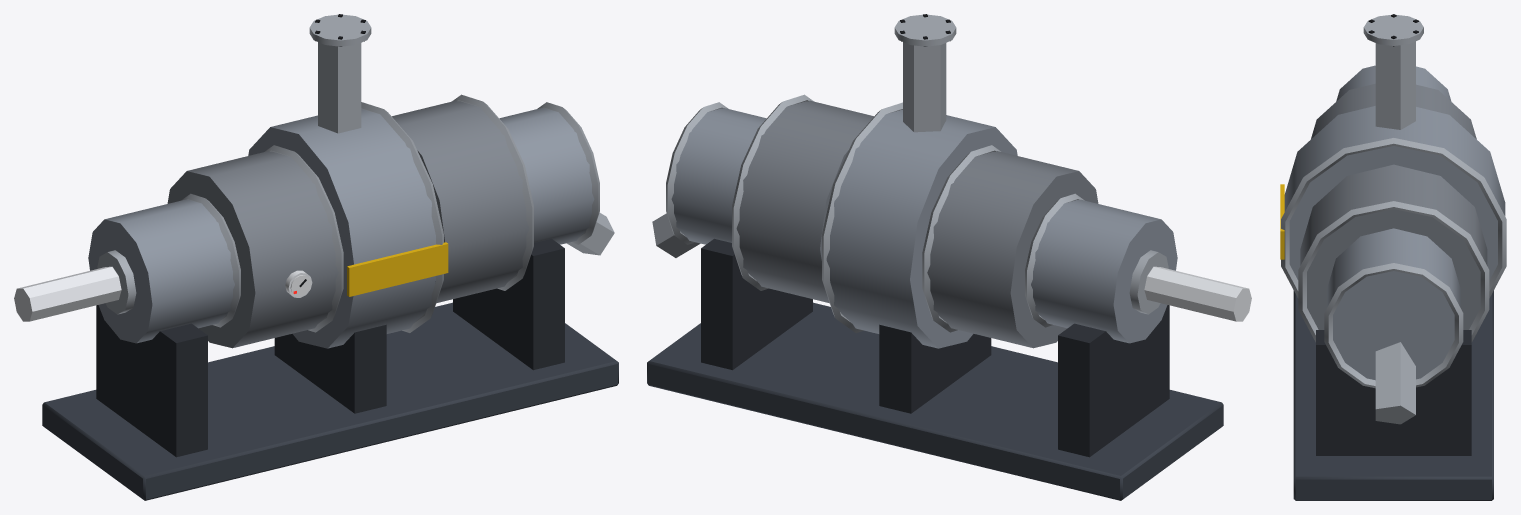
File: turbine_steam_turbine.glb
The picture shows the model from 3 angles, left to right: view 1: azimuth 30°, elevation 25°; view 2: azimuth 150°, elevation 25°; view 3: azimuth 270°, elevation 25°; orthographic projection. The views are drawn at different scales.
Parts seen in each view (by area): view 1: turbine_steam_turbine; view 2: turbine_steam_turbine; view 3: turbine_steam_turbine.
Part boxes in pixels (box(x1,y1,x2,y2)): turbine_steam_turbine: box(14, 14, 618, 500); turbine_steam_turbine: box(647, 14, 1251, 500); turbine_steam_turbine: box(1280, 14, 1506, 500).
Size of the model in its own units: 2.96 by 1.82 by 1.02.
